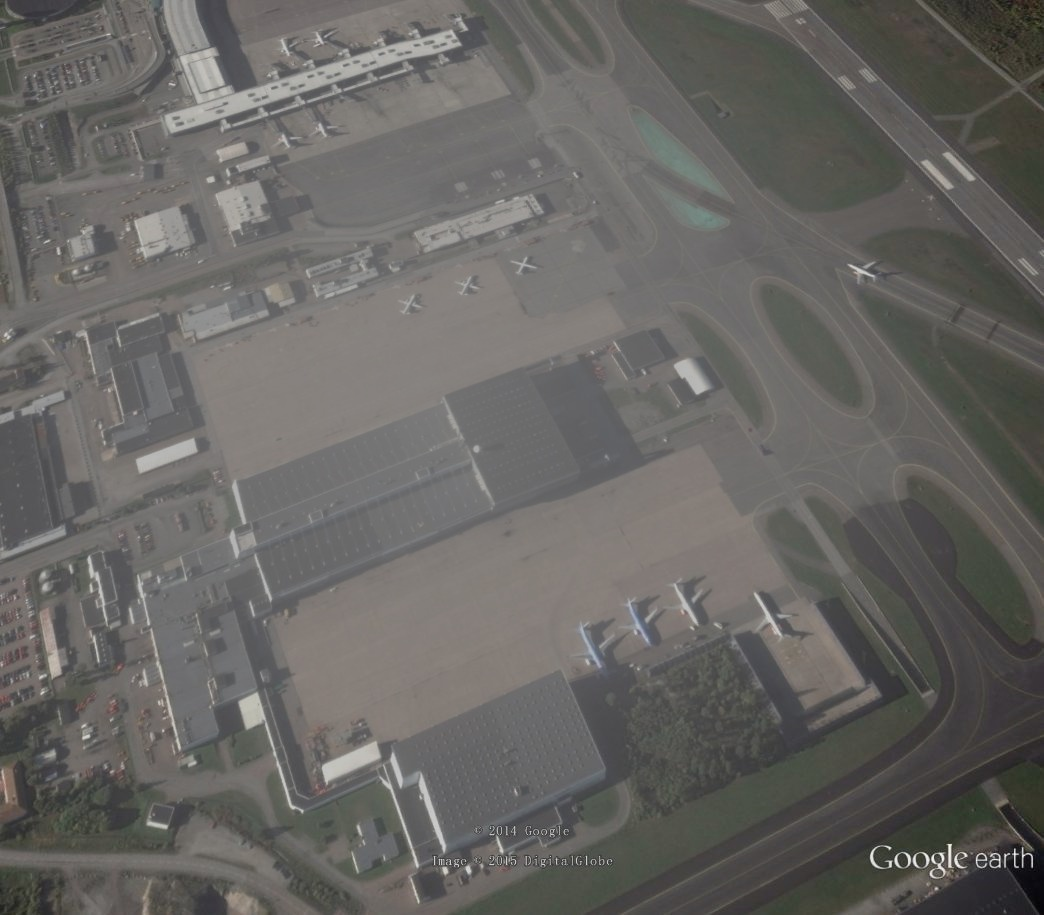aircraft: (565, 618, 625, 682), (748, 588, 802, 648), (660, 571, 712, 630), (613, 597, 666, 652), (844, 259, 889, 289), (304, 117, 342, 144), (507, 252, 541, 280), (451, 274, 484, 301), (271, 130, 307, 153), (393, 292, 427, 316), (309, 30, 339, 51), (276, 37, 303, 60)
